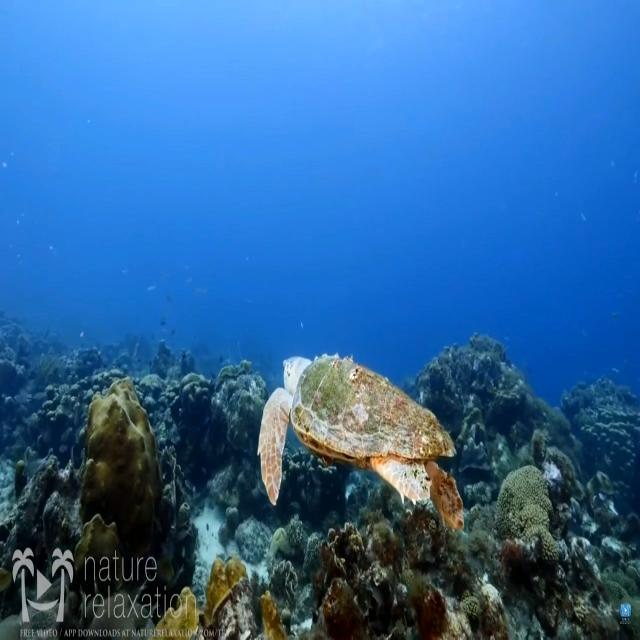Sea turtle: (258, 349, 468, 539)
